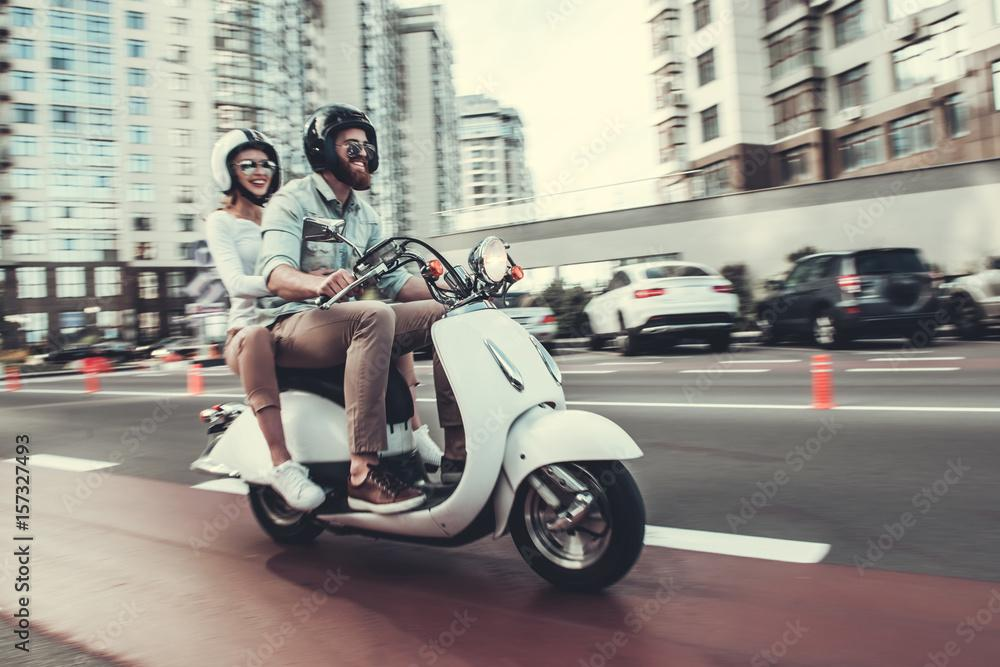helmet: (302, 102, 379, 192), (211, 127, 285, 208)
